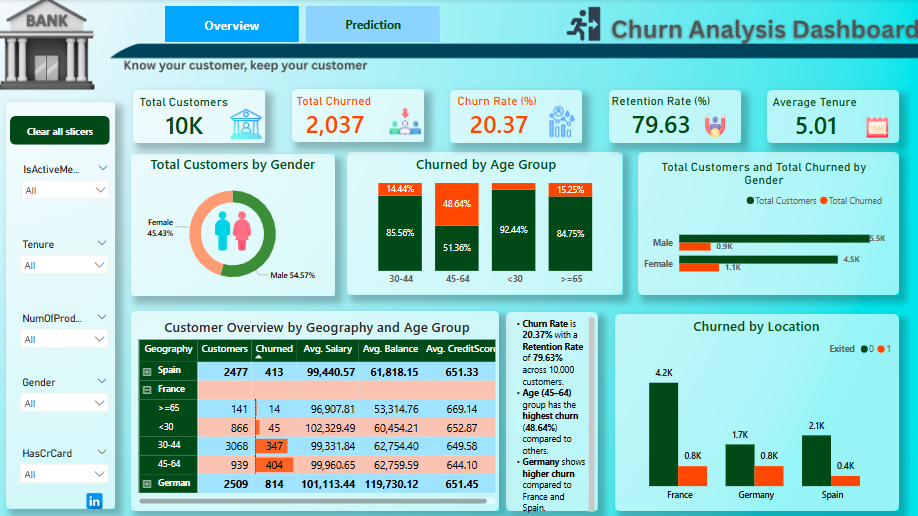

This screenshot's page, from the dashboard's own definition file:
{"tool":"powerbi","page":{"name":"Overview","canvas":[1280,720],"ordinal":0},"visuals":[{"type":"shape","box":[8.5,143.6,152.2,566],"z":0},{"type":"shape","box":[703.8,435.1,127.7,277.2],"z":0,"group":"g4"},{"type":"slicer","fields":{"Values":["Bank_churn_modified.Gender"]},"box":[2.1,515,172.9,81.4],"z":0,"group":"g1"},{"type":"actionButton","box":[14.3,162.9,138.6,40],"z":1000},{"type":"slicer","title":"Salary Category","fields":{"Values":["Bank_churn_modified.Tenure"]},"box":[2.1,322.2,172.9,87.1],"z":1000,"group":"g1"},{"type":"shape","box":[182.2,216,283.5,197.9],"z":2000},{"type":"slicer","fields":{"Values":["Bank_churn_modified.NumOfProducts"]},"box":[2.1,425.7,172.9,72.9],"z":2000,"group":"g1"},{"type":"donutChart","title":"Total Customers by Gender","fields":{"Category":["Bank_churn_modified.Gender"],"Y":["CountNonNull(Bank_churn_modified.CustomerId)"]},"box":[183.4,217.2,279.9,194.2],"z":3000},{"type":"slicer","fields":{"Values":["Bank_churn_modified.HasCrCard"]},"box":[2.1,612.9,172.9,87.1],"z":3000,"group":"g1"},{"type":"group","id":"g1","title":"Group 2","box":[2.1,218.6,174.3,481.4],"z":4000},{"type":"slicer","title":"Salary Category","fields":{"Values":["Bank_churn_modified.IsActiveMember"]},"box":[3.5,218.6,172.9,87.1],"z":4000,"group":"g1"},{"type":"image","box":[284.7,285.9,77.2,72.4],"z":5000},{"type":"shape","box":[185,126.2,184,73.8],"z":6000},{"type":"shape","box":[482.3,212.4,382.9,198.6],"z":7000},{"type":"shape","box":[406.2,125,183.8,73.8],"z":8000},{"type":"hundredPercentStackedColumnChart","title":"Churned by Age Group","fields":{"Category":["Bank_churn_modified.Age_Group"],"Y":["Bank_churn_modified.Total Customers"],"Series":["Bank_churn_modified.Exited"]},"box":[488.6,217.1,372.9,191.4],"z":9000},{"type":"shape","box":[625.6,126.2,184,73.8],"z":10000},{"type":"shape","box":[845.9,126.2,184,73.8],"z":11000},{"type":"shape","box":[1066.2,126.2,184,73.8],"z":12000},{"type":"card","title":"Total Customers","fields":{"Values":["Bank_churn_modified.Total Customers"]},"box":[189,132.7,134.2,67.8],"z":13000},{"type":"shape","box":[182.1,433.7,511.5,278],"z":14000},{"type":"pivotTable","title":"Customer Overview by Geography and Age Group","fields":{"Rows":["Bank_churn_modified.Geography","Bank_churn_modified.Age_Group"],"Values":["Bank_churn_modified.Total Customers","Bank_churn_modified.Total Churned","Avg(Bank_churn_modified.EstimatedSalary)","Avg(Bank_churn_modified.Balance)","Avg(Bank_churn_modified.CreditScore)"]},"box":[187.6,443.4,505.9,264.1],"z":15000},{"type":"card","title":"Total Churned","fields":{"Values":["Bank_churn_modified.Total Churned"]},"box":[406.9,131.3,116.9,67.8],"z":16000},{"type":"card","title":"Churn Rate (%)","fields":{"Values":["Bank_churn_modified.Churn Rate (%)"]},"box":[630.5,131.3,125.5,67.8],"z":17000},{"type":"shape","box":[886.6,212.7,362.9,198.8],"z":17000,"group":"g2"},{"type":"shape","box":[854.8,437.8,394.7,273.8],"z":17000,"group":"g3"},{"type":"card","title":"Retention Rate (%)","fields":{"Values":["Bank_churn_modified.Retention Rate (%)"]},"box":[845.5,131.3,148.6,67.8],"z":18000},{"type":"clusteredBarChart","fields":{"Y":["Bank_churn_modified.Total Customers","Bank_churn_modified.Total Churned"],"Category":["Bank_churn_modified.Gender"]},"box":[887.3,222.9,347.5,189],"z":18000,"group":"g2"},{"type":"card","title":"Average Tenure","fields":{"Values":["Bank_churn_modified.Average Tenure (Years)"]},"box":[1069.1,132.7,129.8,66.4],"z":19000},{"type":"clusteredColumnChart","title":"Churned by Location","fields":{"Category":["Bank_churn_modified.Geography"],"Y":["Bank_churn_modified.Total Customers"],"Series":["Bank_churn_modified.Exited"]},"box":[855,442.2,393.4,265.5],"z":19000,"group":"g3"},{"type":"image","box":[314.9,143.6,53.1,60.3],"z":20000},{"type":"image","box":[534.5,143.6,55.5,54.3],"z":21000},{"type":"image","box":[754,143.6,55.5,54.3],"z":22000},{"type":"image","box":[973.6,155.6,42.2,42.2],"z":23000},{"type":"image","box":[1199.2,155.6,39.8,44.6],"z":24000},{"type":"image","box":[759.5,5.7,103.8,58.3],"z":25000},{"type":"image","box":[102.5,679.2,57.9,36.2],"z":26000},{"type":"group","id":"g2","title":"Group 3","box":[886.6,212.7,362.9,199.2],"z":27000},{"type":"group","id":"g3","title":"Group 1","box":[854.8,437.8,394.7,273.8],"z":28000},{"type":"textbox","box":[704.1,438.3,127.7,280.5],"z":28000,"group":"g4"},{"type":"pageNavigator","box":[229.3,9.7,382.2,50],"z":29000},{"type":"group","id":"g4","title":"Group 4","box":[703.8,435.1,127.9,283.8],"z":30000}]}

Visuals, with their boxes in screenshot pixels (x1, y1, x2, y2), scaled from the page's 1280x720 canvas onto the 918x516 screenshot:
shape: region(6, 103, 115, 509)
shape: region(505, 312, 596, 510)
slicer - Bank_churn_modified.Gender: region(2, 369, 126, 427)
actionButton: region(10, 117, 110, 145)
"Salary Category" slicer: region(2, 231, 126, 293)
shape: region(131, 155, 334, 297)
slicer - Bank_churn_modified.NumOfProducts: region(2, 305, 126, 357)
"Total Customers by Gender" donutChart: region(132, 156, 332, 295)
slicer - Bank_churn_modified.HasCrCard: region(2, 439, 126, 502)
"Group 2" group: region(2, 157, 127, 502)
"Salary Category" slicer: region(3, 157, 127, 219)
image: region(204, 205, 260, 257)
shape: region(133, 90, 265, 143)
shape: region(346, 152, 621, 295)
shape: region(291, 90, 423, 142)
"Churned by Age Group" hundredPercentStackedColumnChart: region(350, 156, 618, 293)
shape: region(449, 90, 581, 143)
shape: region(607, 90, 739, 143)
shape: region(765, 90, 897, 143)
"Total Customers" card: region(136, 95, 232, 144)
shape: region(131, 311, 497, 510)
"Customer Overview by Geography and Age Group" pivotTable: region(135, 318, 497, 507)
"Total Churned" card: region(292, 94, 376, 143)
"Churn Rate (%)" card: region(452, 94, 542, 143)
shape: region(636, 152, 896, 295)
shape: region(613, 314, 896, 510)
"Retention Rate (%)" card: region(606, 94, 713, 143)
clusteredBarChart - Bank_churn_modified.Total Customers x Bank_churn_modified.Total Churned: region(636, 160, 886, 295)
"Average Tenure" card: region(767, 95, 860, 143)
"Churned by Location" clusteredColumnChart: region(613, 317, 895, 507)
image: region(226, 103, 264, 146)
image: region(383, 103, 423, 142)
image: region(541, 103, 581, 142)
image: region(698, 112, 729, 142)
image: region(860, 112, 889, 143)
image: region(545, 4, 619, 46)
image: region(74, 487, 115, 513)
"Group 3" group: region(636, 152, 896, 295)
"Group 1" group: region(613, 314, 896, 510)
textbox: region(505, 314, 597, 515)
pageNavigator: region(164, 7, 439, 43)
"Group 4" group: region(505, 312, 596, 515)
